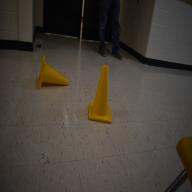cone: (88, 64, 112, 124), (38, 54, 68, 90)
